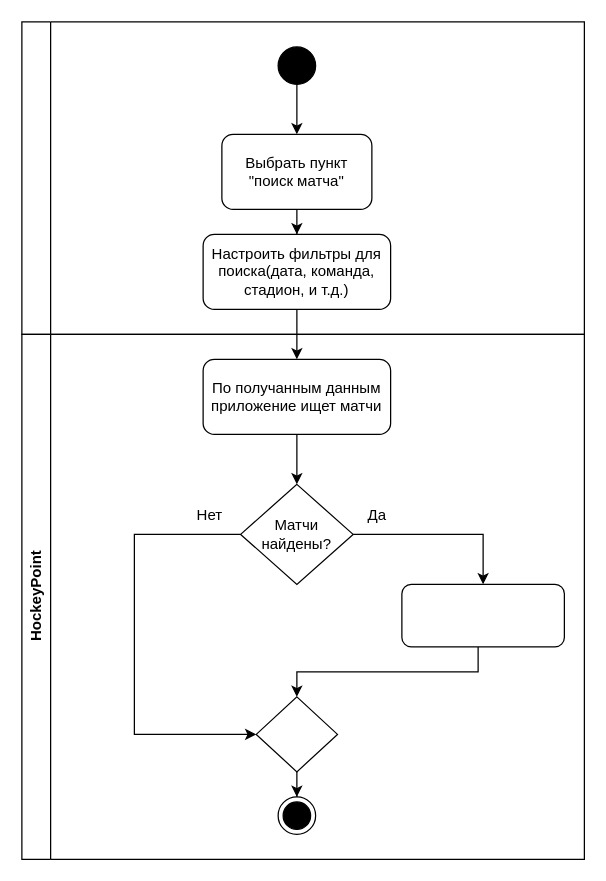
The diagram is 606 pixels wide and 881 high, and some of its shapes have lost their labels. Each missing label, with the box of its shape:
Выводит список матчей: (401, 583, 564, 647)
Пользователь: (21, 21, 584, 334)
